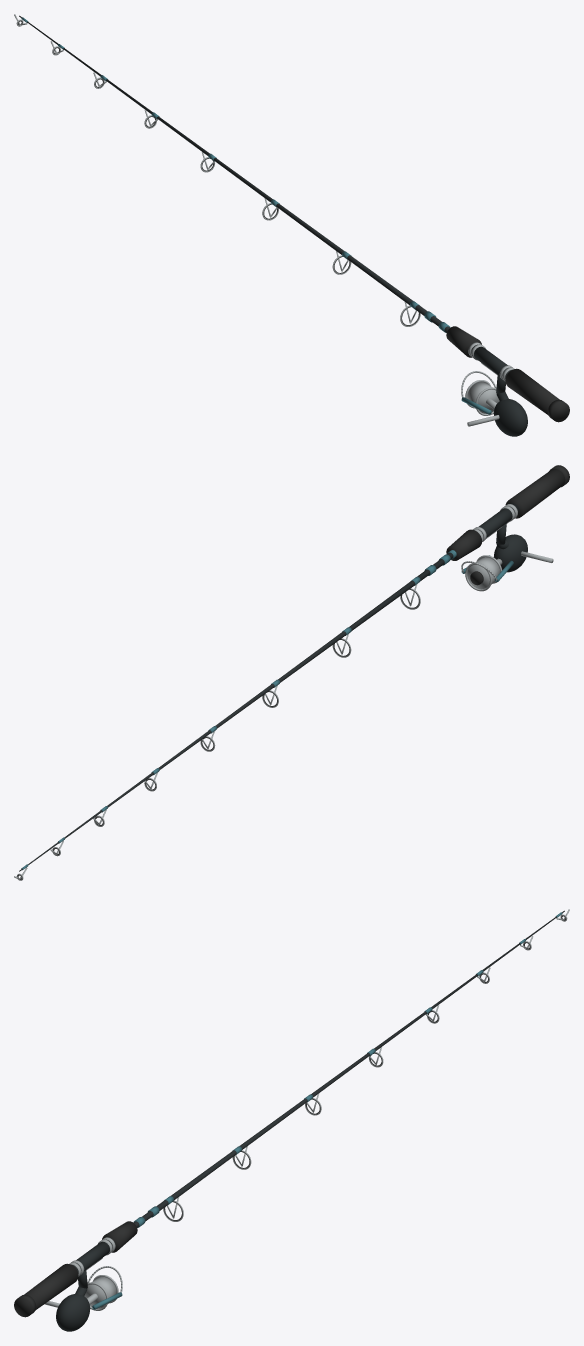
The model's file is kingfisher.glb.
3 views of the same model, one above another, from view 1: azimuth 30°, elevation 25°; view 2: azimuth 150°, elevation 25°; view 3: azimuth 330°, elevation 25° (orthographic).
Parts seen in each view (by area): view 1: Tapered carbon blank.003; view 2: Tapered carbon blank.003; view 3: Tapered carbon blank.003.
Boxes of the visible parts, x1,y1,x2,y2 form: Tapered carbon blank.003: (14, 14, 569, 436); Tapered carbon blank.003: (14, 465, 569, 880); Tapered carbon blank.003: (14, 909, 569, 1331).
Size of the model in its own units: 0.1229 by 0.1315 by 1.91.
